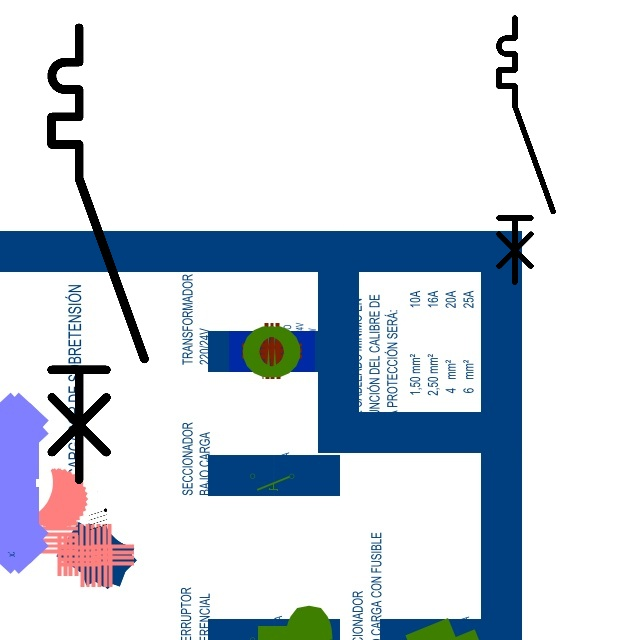interruptor_termomagnetico: (40, 16, 156, 491), (492, 11, 560, 289)
